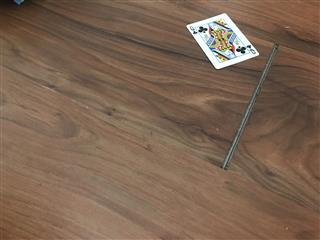QueenOfClubs: (185, 12, 259, 70)
